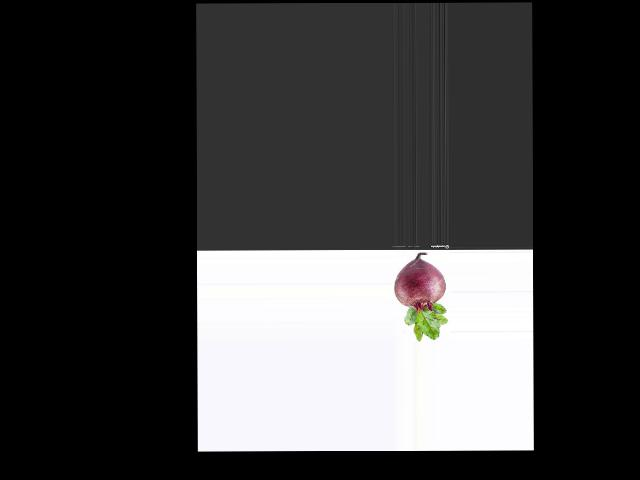beet: (393, 253, 447, 341)
